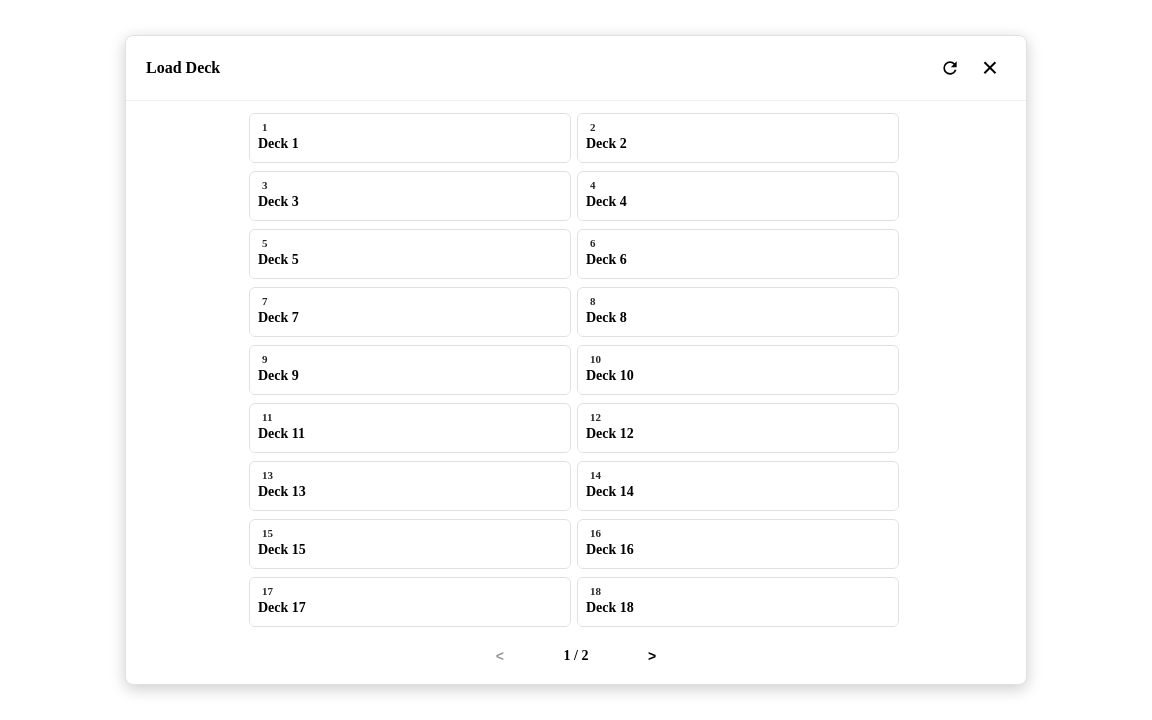
Test: LoadDialog.vue › ページネーション › 最後のページでは「次のページ」ボタンがdisabled
Note: 2ページ目に移動
Step 1. Click the button ">" → (652, 656), box x1=632 y1=640 x2=672 y2=672
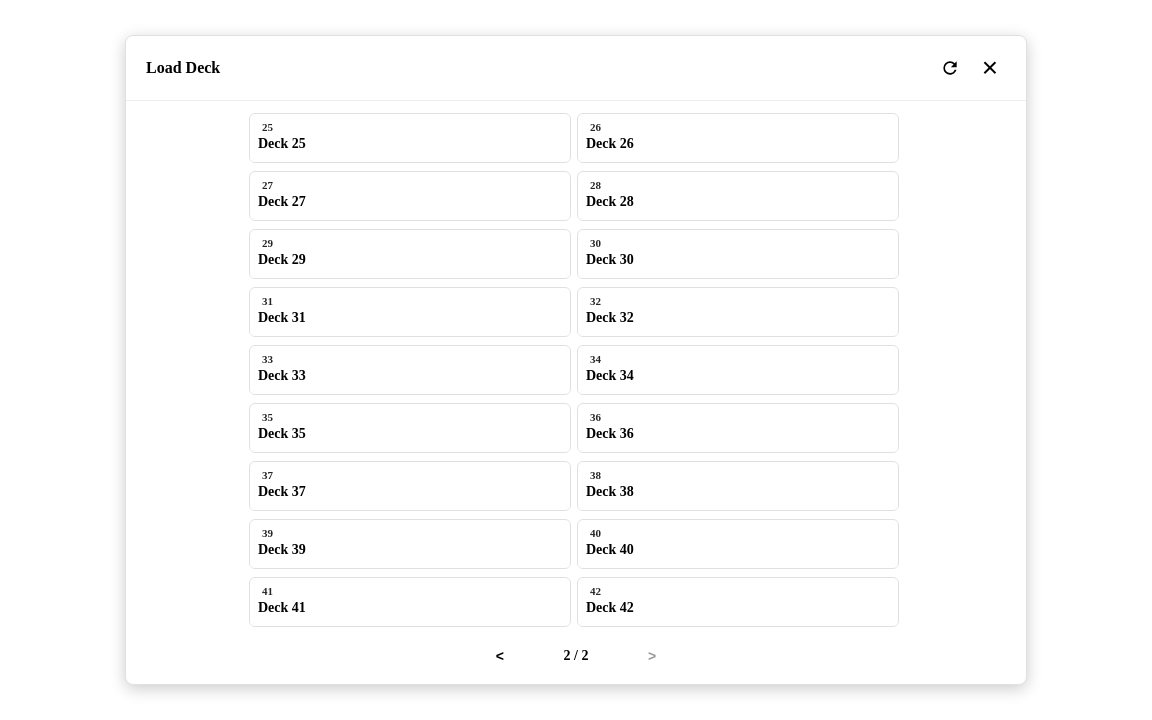
Now the button ">" is disabled, box x1=632 y1=640 x2=672 y2=672
